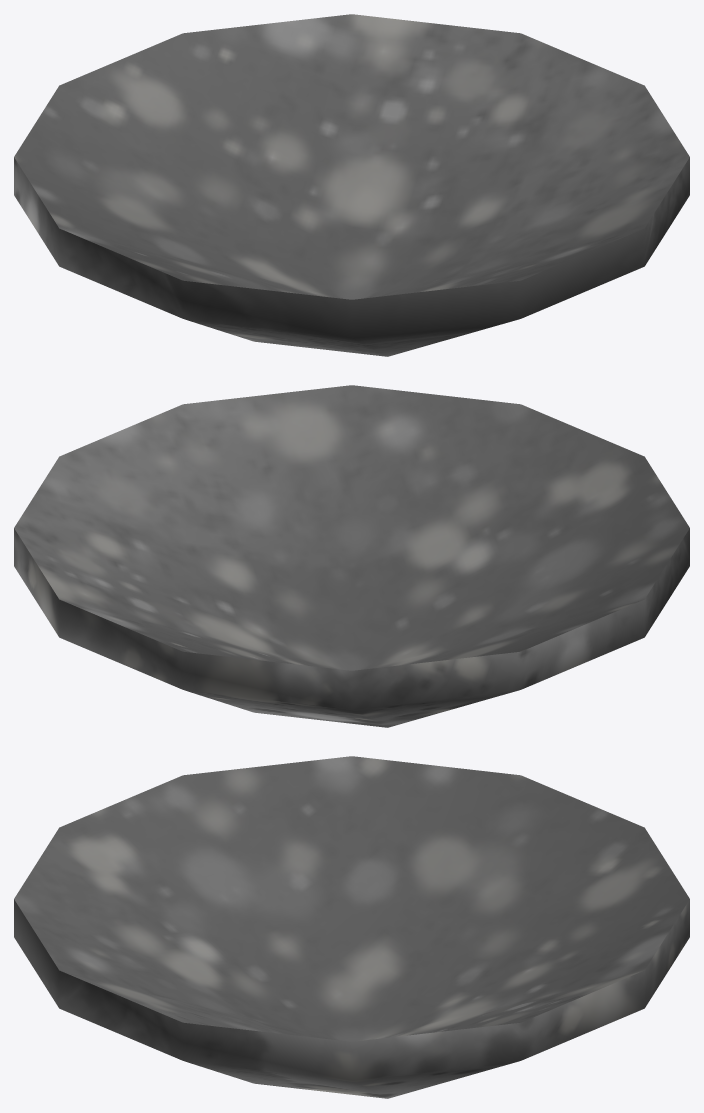
File: PlateSmall.fbx
3 renders of one model, top to bottom at view 1: azimuth 30°, elevation 25°; view 2: azimuth 150°, elevation 25°; view 3: azimuth 270°, elevation 25°, orthographic.
Visible parts, largest first — view 1: PlateSmall; view 2: PlateSmall; view 3: PlateSmall.
Boxes of the visible parts, <box> form: PlateSmall: <box>14,14,689,356</box>; PlateSmall: <box>14,385,689,727</box>; PlateSmall: <box>14,756,689,1098</box>.
Size of the model in its own units: 0.3501 by 0.0819 by 0.3501.
